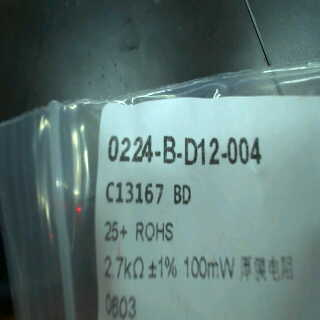2.7kR: (99, 253, 147, 281)
